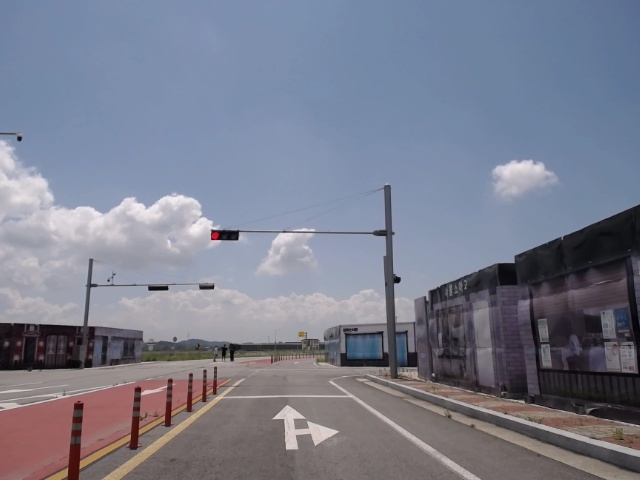red_3: (209, 229, 241, 240)
